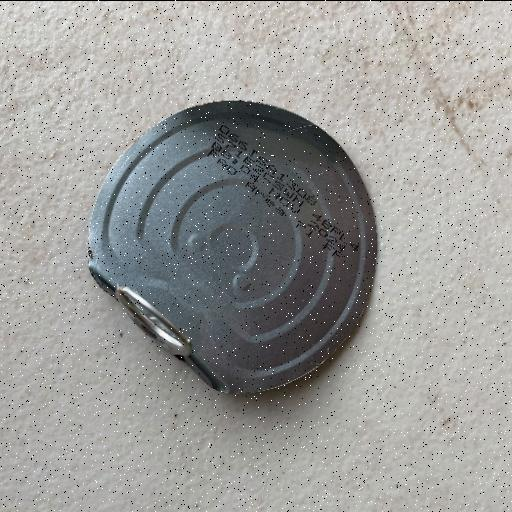Metal: (84, 96, 379, 396)
